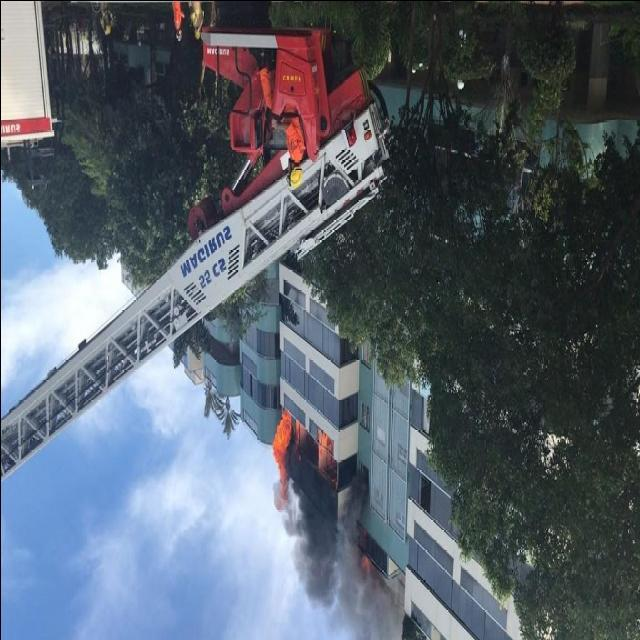Fire: (270, 421, 298, 497)
